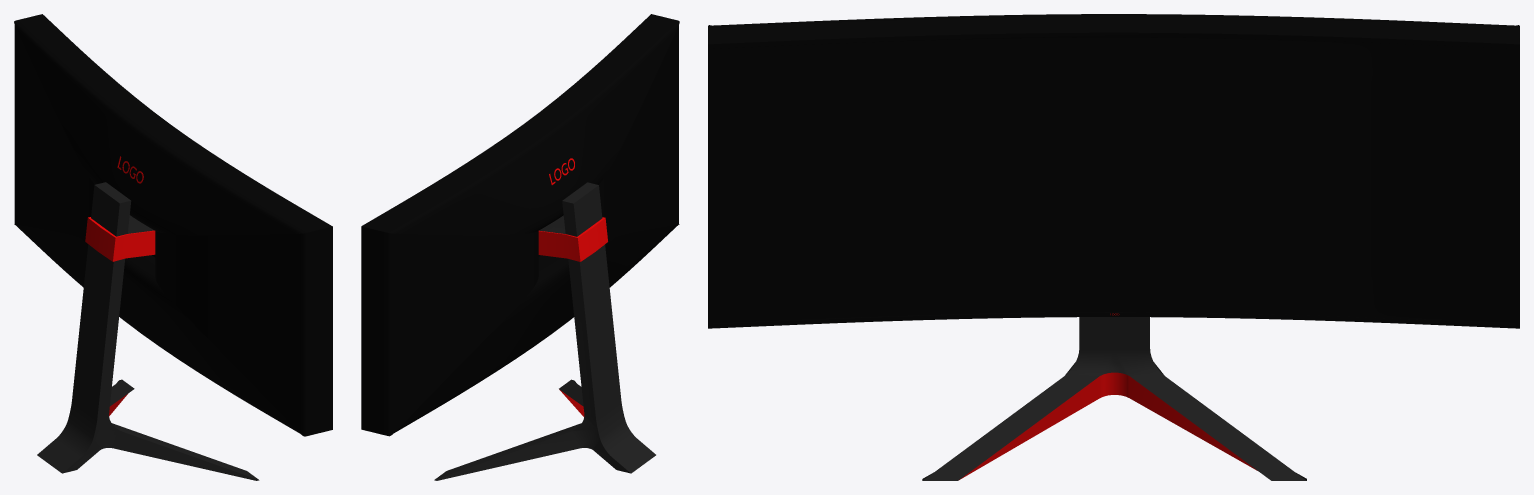
File: monitor.glb
The picture shows the model from 3 angles, left to right: view 1: azimuth 30°, elevation 25°; view 2: azimuth 150°, elevation 25°; view 3: azimuth 270°, elevation 25°; orthographic projection. The views are drawn at different scales.
Visible parts, largest first — view 1: Object_2, Object_4, Object_5; view 2: Object_2, Object_4, Object_5; view 3: Object_3, Object_2, Object_4, Object_5.
Part boxes in pixels (left/top/right/bottom): Object_2: left=14, top=14, right=332, bottom=436; Object_4: left=37, top=182, right=259, bottom=480; Object_5: left=85, top=156, right=155, bottom=416; Object_2: left=361, top=14, right=679, bottom=436; Object_4: left=434, top=182, right=655, bottom=480; Object_5: left=538, top=158, right=607, bottom=416; Object_3: left=713, top=37, right=1514, bottom=323; Object_2: left=708, top=14, right=1519, bottom=328; Object_4: left=922, top=317, right=1306, bottom=480; Object_5: left=959, top=313, right=1257, bottom=479.
Bounding box in the file's own units: 1.46 × 3.06 × 5.18.
